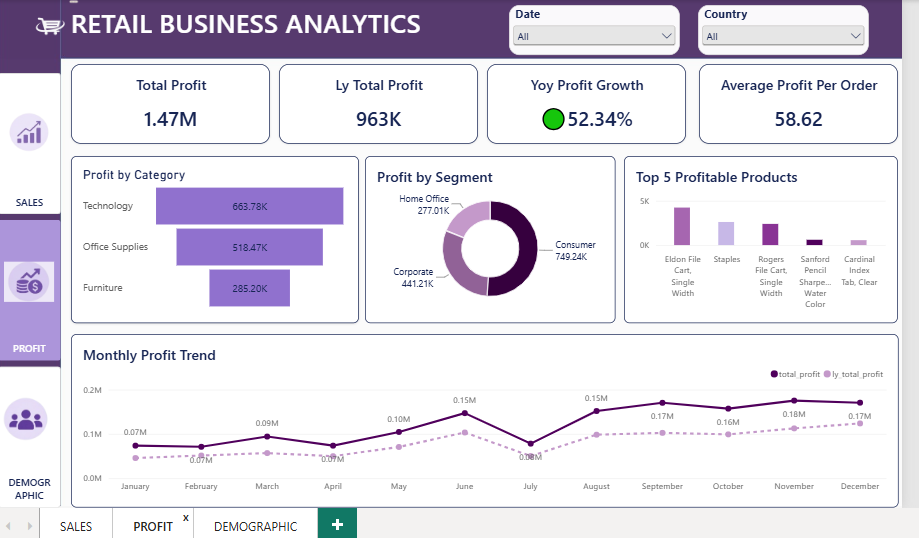

This screenshot's page, from the dashboard's own definition file:
{"tool":"powerbi","page":{"name":"PROFIT","canvas":[1280,720],"ordinal":1},"visuals":[{"type":"slicer","fields":{"Values":["date_table.Date"]},"box":[724.3,7.1,242.4,70.9],"z":0},{"type":"slicer","fields":{"Values":["location_table.Country"]},"box":[992.1,7.1,242.4,70.9],"z":1000},{"type":"image","box":[0,0,150.2,78],"z":2000},{"type":"textbox","box":[102.8,7.6,592.4,71],"z":3000},{"type":"card","title":"Total Profit","fields":{"Values":["calculated_table.total_profit"]},"box":[103.5,90.7,282,113.4],"z":4000},{"type":"card","title":"Ly Total Profit","fields":{"Values":["calculated_table.ly_total_profit"]},"box":[399,90.7,282,113.4],"z":5000},{"type":"card","title":"Yoy Profit Growth","fields":{"Values":["calculated_table.yoy_growth_profit"]},"box":[693.6,90.7,282,113.4],"z":6000},{"type":"card","title":"Average Profit Per Order","fields":{"Values":["calculated_table.avg_profit_per_order"]},"box":[992.9,90.7,282,113.4],"z":7000},{"type":"pageNavigator","box":[0,103.5,89.3,616.5],"z":8000},{"type":"funnel","title":"Profit by Category","fields":{"Category":["product_table.Category"],"Y":["calculated_table.total_profit"]},"box":[102.8,220.6,408,237.3],"z":9000},{"type":"donutChart","title":"Profit by Segment","fields":{"Category":["customer_table.Segment"],"Y":["calculated_table.total_profit"]},"box":[519.9,220.6,355.1,237.3],"z":10000},{"type":"ribbonChart","title":"Top 5 Profitable Products","fields":{"Category":["product_table.Product Name"],"Y":["calculated_table.total_profit"]},"box":[887.1,220.6,388.4,237.3],"z":11000},{"type":"lineChart","title":"Monthly Profit Trend","fields":{"Category":["date_table.Date.Variation.Date Hierarchy.Month"],"Y":["calculated_table.total_profit","calculated_table.ly_total_profit"]},"box":[102.8,473,1172.7,246.3],"z":12000},{"type":"image","box":[8.3,90.8,70.8,194.2],"z":13000},{"type":"image","box":[8.3,301.7,70.8,194.2],"z":14000},{"type":"image","box":[0,500,75,187.5],"z":15000}]}

Visuals, with their boxes on the page's 1280x720 design canvas (x1, y1, x2, y2). These are canvas units, not pixel positions in the 919x538 screenshot, which may show the page scaled, cropped or inside an application window:
slicer - date_table.Date: {"x1": 724, "y1": 7, "x2": 967, "y2": 78}
slicer - location_table.Country: {"x1": 992, "y1": 7, "x2": 1234, "y2": 78}
image: {"x1": 0, "y1": 0, "x2": 150, "y2": 78}
textbox: {"x1": 103, "y1": 8, "x2": 695, "y2": 79}
"Total Profit" card: {"x1": 104, "y1": 91, "x2": 386, "y2": 204}
"Ly Total Profit" card: {"x1": 399, "y1": 91, "x2": 681, "y2": 204}
"Yoy Profit Growth" card: {"x1": 694, "y1": 91, "x2": 976, "y2": 204}
"Average Profit Per Order" card: {"x1": 993, "y1": 91, "x2": 1275, "y2": 204}
pageNavigator: {"x1": 0, "y1": 104, "x2": 89, "y2": 720}
"Profit by Category" funnel: {"x1": 103, "y1": 221, "x2": 511, "y2": 458}
"Profit by Segment" donutChart: {"x1": 520, "y1": 221, "x2": 875, "y2": 458}
"Top 5 Profitable Products" ribbonChart: {"x1": 887, "y1": 221, "x2": 1276, "y2": 458}
"Monthly Profit Trend" lineChart: {"x1": 103, "y1": 473, "x2": 1276, "y2": 719}
image: {"x1": 8, "y1": 91, "x2": 79, "y2": 285}
image: {"x1": 8, "y1": 302, "x2": 79, "y2": 496}
image: {"x1": 0, "y1": 500, "x2": 75, "y2": 688}
